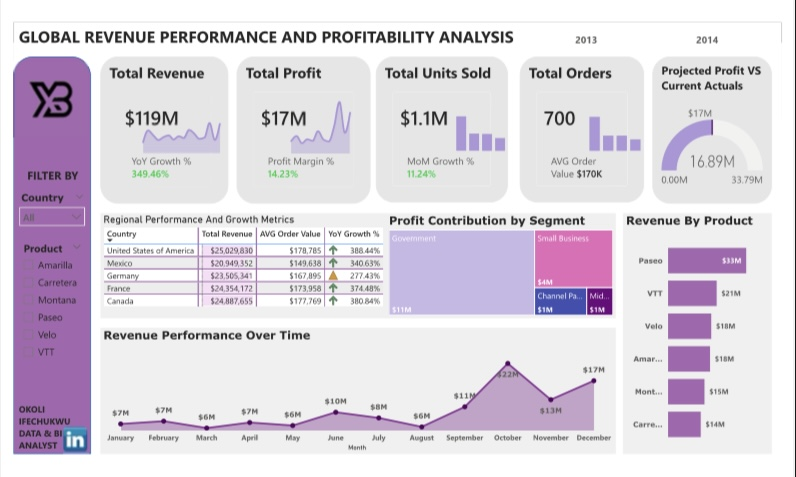

Layout of this report page (visuals, bound fields, positions):
{"tool":"powerbi","page":{"name":"Page 1","canvas":[1280,720],"ordinal":0},"visuals":[{"type":"cardVisual","title":"Total Revenue","fields":{"Data":["Key Metrics.Total Revenue"]},"box":[144.8,57.2,212.7,244.9],"z":0},{"type":"areaChart","fields":{"Y":["Key Metrics.Total Revenue"],"Category":["Calendar.Date.Variation.Date Hierarchy.Year"]},"box":[200.8,143.4,157.8,80.7],"z":1},{"type":"cardVisual","title":"Total Profit","fields":{"Data":["Key Metrics.Total Profit"]},"box":[371.8,57.2,223.5,244.9],"z":2},{"type":"areaChart","fields":{"Y":["Key Metrics.Total Profit"],"Category":["Calendar.MonthNum"]},"box":[439.1,105.1,163.5,119.1],"z":3},{"type":"cardVisual","title":"Total Units Sold","fields":{"Data":["Sum(Fact_Sales.Units Sold)"]},"box":[604.2,57.2,219.9,243.1],"z":4},{"type":"clusteredColumnChart","fields":{"Y":["Sum(Fact_Sales.Units Sold)"],"Category":["Calendar.Quarter"]},"box":[733.4,128.5,91.1,91.1],"z":5},{"type":"cardVisual","title":"Total Orders","fields":{"Data":["Key Metrics.Total Orders"]},"box":[843.8,57.2,207.4,243.1],"z":6},{"type":"clusteredColumnChart","fields":{"Category":["Calendar.Quarter"],"Y":["Key Metrics.Total Orders"]},"box":[955.3,128.5,95.8,91.1],"z":7},{"type":"shape","box":[0,57.4,129.1,661.5],"z":8},{"type":"areaChart","title":"Revenue Performance Over Time","fields":{"Y":["Key Metrics.Total Revenue"],"Category":["Calendar.Month"]},"box":[144.8,509.2,859.6,210.2],"z":9},{"type":"clusteredBarChart","title":"Revenue By Product","fields":{"Category":["Fact_Sales.Product"],"Y":["Key Metrics.Total Revenue"]},"box":[1016.1,317.7,247.6,401.8],"z":10},{"type":"treemap","title":"Profit Contribution by Segment","fields":{"Group":["Fact_Sales.Segment"],"Values":["Key Metrics.Total Profit"]},"box":[621.3,317.7,383.1,175.2],"z":11},{"type":"gauge","title":"Projected Profit VS Current Actuals","fields":{"Y":["Cost Reduction %.projected Profit"],"TargetValue":["Key Metrics.Total Profit"]},"box":[1065.5,57.2,198.4,244.9],"z":12},{"type":"tableEx","title":"Regional Performance And Growth Metrics","fields":{"Values":["Fact_Sales.Country","Key Metrics.Total Revenue","Key Metrics.AVG Order Value","Key Metrics.YoY Growth  %"]},"box":[144.8,317.7,476.5,175.2],"z":13},{"type":"slicer","fields":{"Values":["Calendar.Year"]},"box":[829.5,0,450.5,57.2],"z":14},{"type":"slicer","fields":{"Values":["Fact_Sales.Country"]},"box":[0,277.1,128.7,96.5],"z":15},{"type":"slicer","fields":{"Values":["Fact_Sales.Product"]},"box":[3.6,359.3,121.6,209.2],"z":16},{"type":"textbox","box":[3.6,0,840.8,78.9],"z":17},{"type":"textbox","box":[17.9,236.6,111.1,80.7],"z":18},{"type":"image","box":[0,59.2,125.5,138],"z":19},{"type":"textbox","box":[3.6,629.2,125.5,89.6],"z":20},{"type":"image","box":[62.9,671.7,82,46.8],"z":21}]}

Visuals, with their boxes in screenshot pixels (x1, y1, x2, y2):
"Total Revenue" cardVisual: 99, 68, 230, 218
areaChart - Key Metrics.Total Revenue x Calendar.Date.Variation.Date Hierarchy.Year: 134, 121, 230, 171
"Total Profit" cardVisual: 238, 68, 375, 218
areaChart - Key Metrics.Total Profit x Calendar.MonthNum: 280, 98, 380, 171
"Total Units Sold" cardVisual: 381, 68, 516, 217
clusteredColumnChart - Sum(Fact_Sales.Units Sold) x Calendar.Quarter: 460, 112, 516, 168
"Total Orders" cardVisual: 528, 68, 655, 217
clusteredColumnChart - Calendar.Quarter x Key Metrics.Total Orders: 596, 112, 655, 168
shape: 10, 68, 90, 474
"Revenue Performance Over Time" areaChart: 99, 345, 626, 474
"Revenue By Product" clusteredBarChart: 634, 228, 785, 474
"Profit Contribution by Segment" treemap: 391, 228, 626, 335
"Projected Profit VS Current Actuals" gauge: 664, 68, 785, 218
"Regional Performance And Growth Metrics" tableEx: 99, 228, 391, 335
slicer - Calendar.Year: 519, 33, 795, 68
slicer - Fact_Sales.Country: 10, 203, 89, 262
slicer - Fact_Sales.Product: 13, 254, 87, 382
textbox: 13, 33, 528, 82
textbox: 21, 178, 89, 228
image: 10, 69, 87, 154
textbox: 13, 419, 90, 474
image: 49, 445, 99, 474
